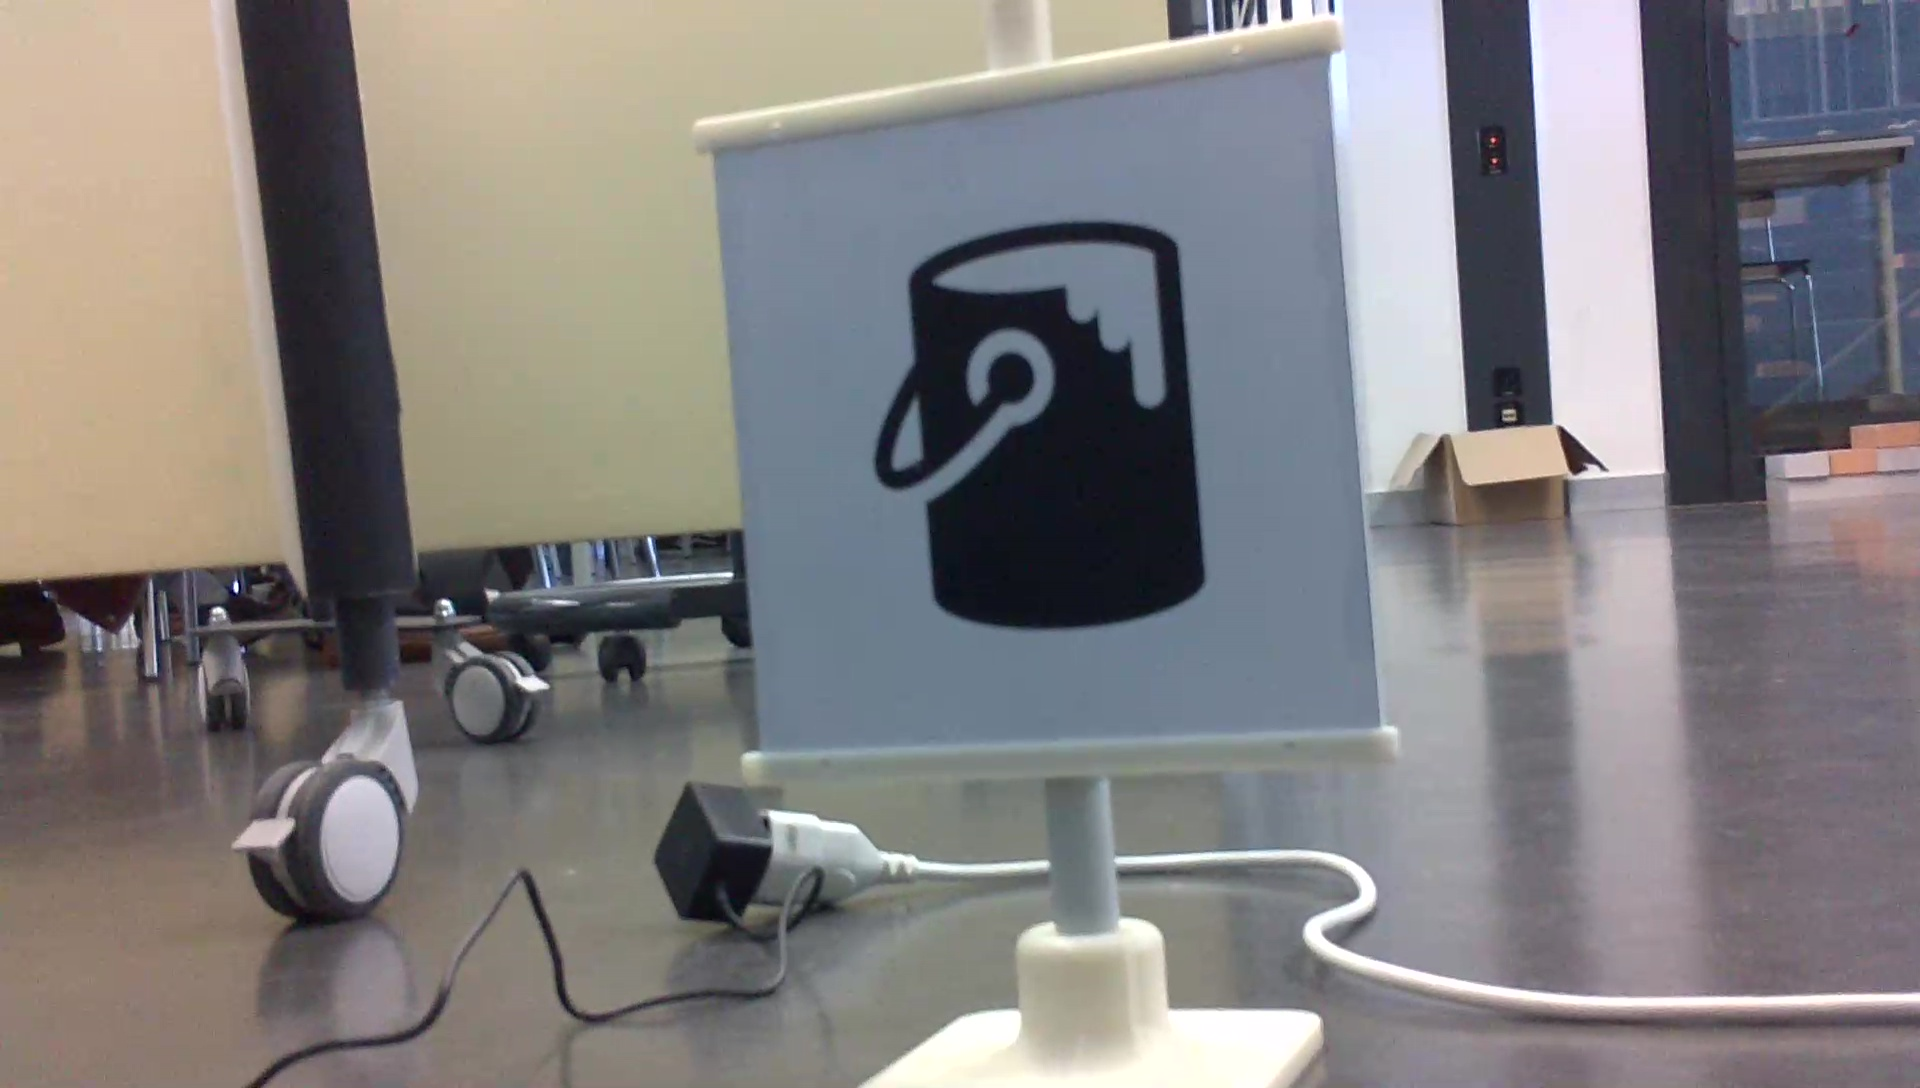bucket: (858, 214, 1218, 641)
